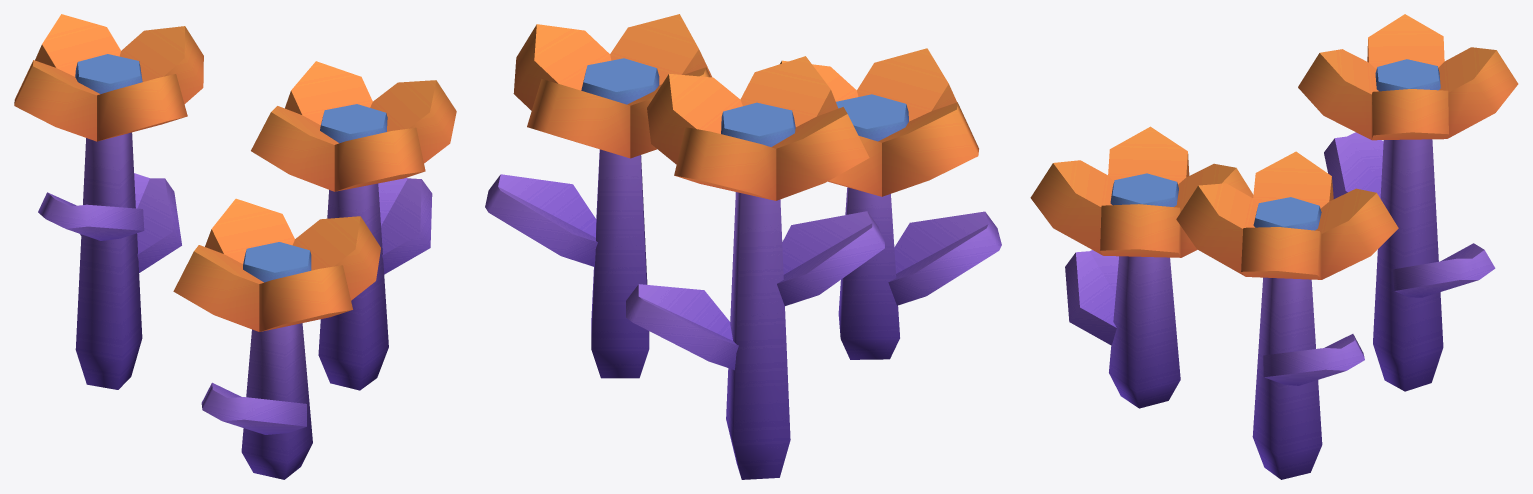
File: flores laranjas altas.glb
3 views of the same model, side by side, from view 1: azimuth 30°, elevation 25°; view 2: azimuth 150°, elevation 25°; view 3: azimuth 270°, elevation 25° (orthographic). The views are drawn at different scales.
Visible parts, largest first — view 1: flowers-tall, flowers-tall.001, flowers-tall.002; view 2: flowers-tall.001, flowers-tall, flowers-tall.002; view 3: flowers-tall, flowers-tall.001, flowers-tall.002.
Part boxes in pixels (x1,y1,x2,y2): flowers-tall: [14, 14, 456, 331]; flowers-tall.001: [38, 132, 432, 479]; flowers-tall.002: [75, 54, 387, 282]; flowers-tall.001: [485, 149, 1001, 479]; flowers-tall: [513, 14, 978, 200]; flowers-tall.002: [581, 58, 908, 146]; flowers-tall: [1030, 14, 1518, 279]; flowers-tall.001: [1065, 132, 1495, 479]; flowers-tall.002: [1110, 59, 1440, 230].
Bounding box in the file's own units: 0.546 × 0.4616 × 0.6183.
Materials: 1 (1 with a texture image).
